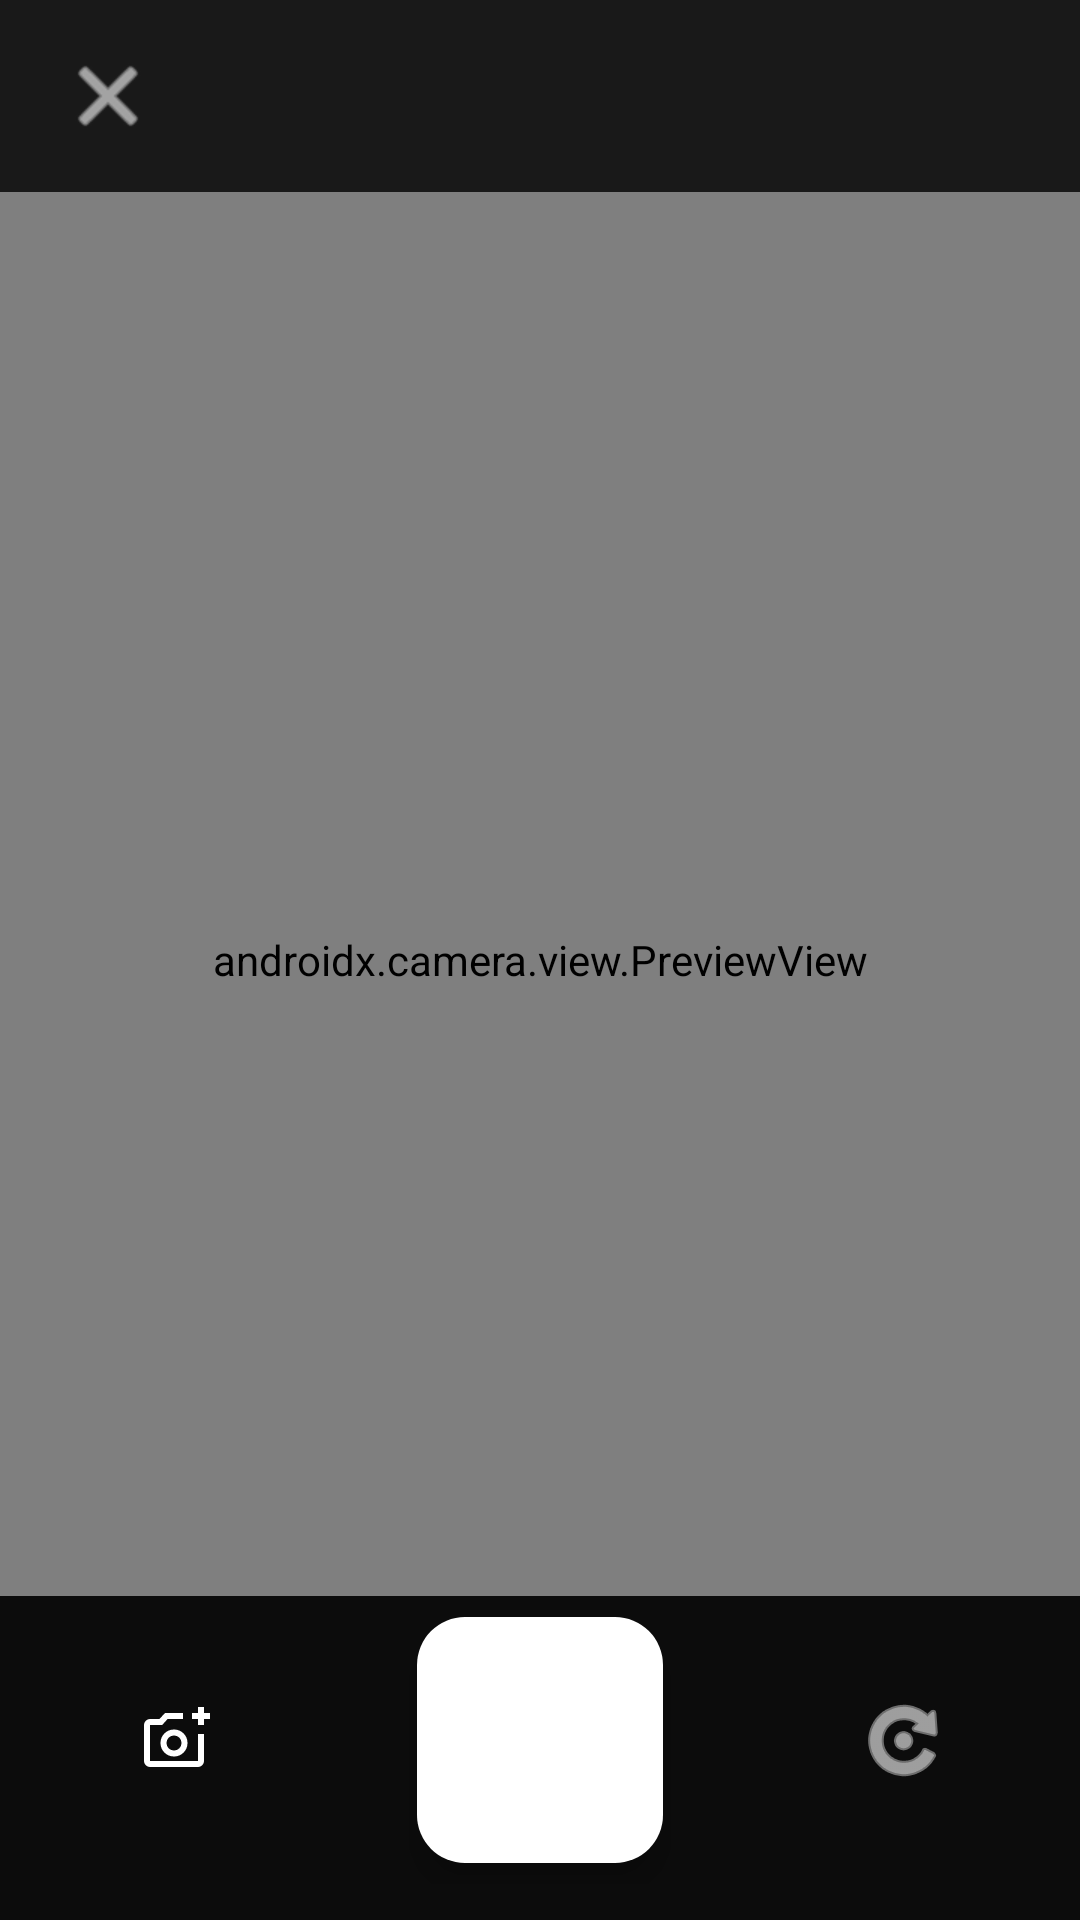

Where to tap for icons on this 1080x1920 app screen, as (x,y):
Ganti kamera: (903,1740)
Tutup: (108,96)
